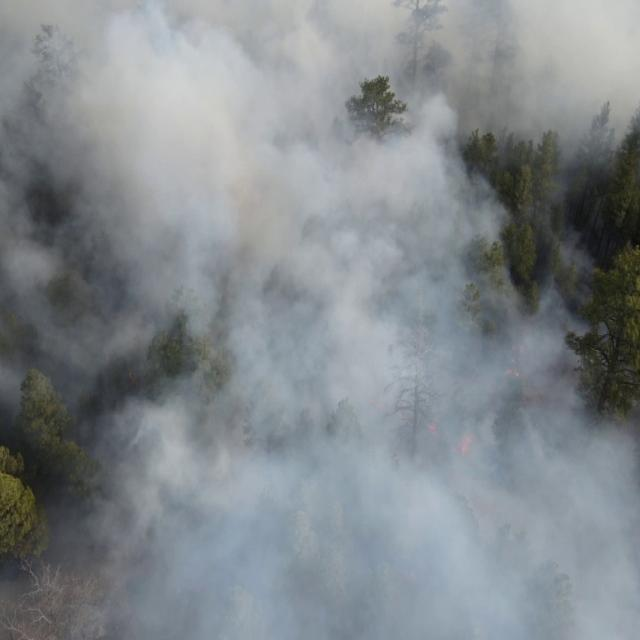fire: (368, 397, 412, 421), (508, 340, 528, 382), (456, 430, 478, 459), (425, 418, 440, 434)
smoke: (43, 159, 596, 640), (0, 0, 640, 159), (0, 142, 43, 444), (597, 394, 640, 640), (0, 525, 44, 640)
